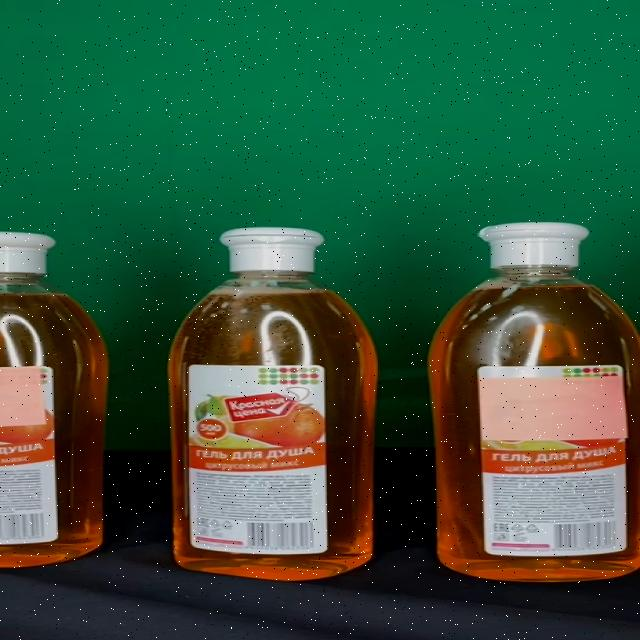Bottle: (427, 222, 640, 581), (168, 228, 377, 581)
Cap: (479, 224, 588, 268), (218, 228, 325, 272)
